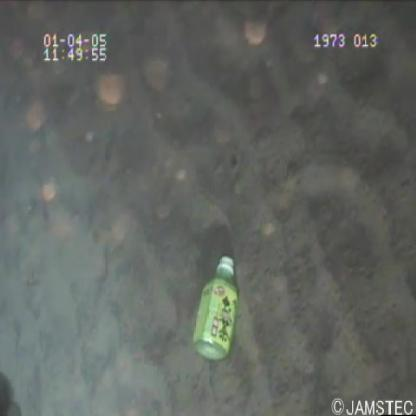Rác: (185, 252, 251, 364)
